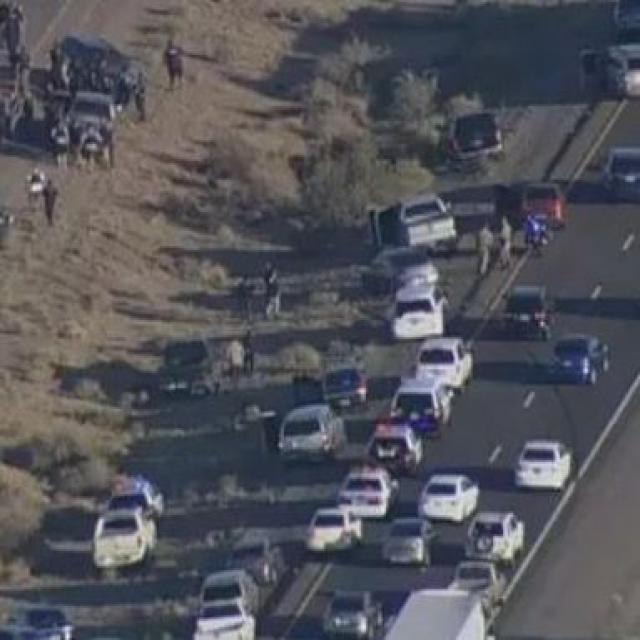traffic_incident: (18, 30, 149, 174)
